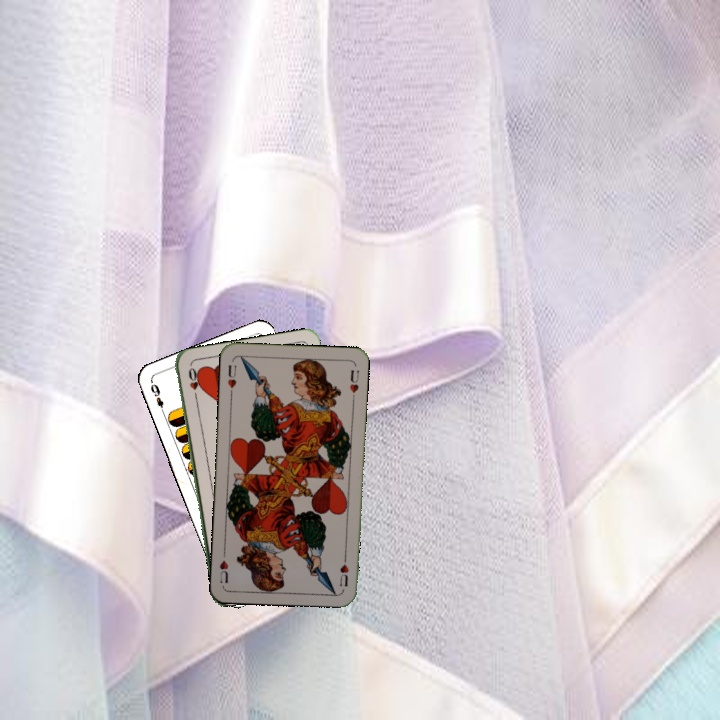E9: (146, 380, 168, 417)
HO: (184, 363, 200, 403)
HU: (336, 551, 351, 589), (224, 361, 239, 398)
